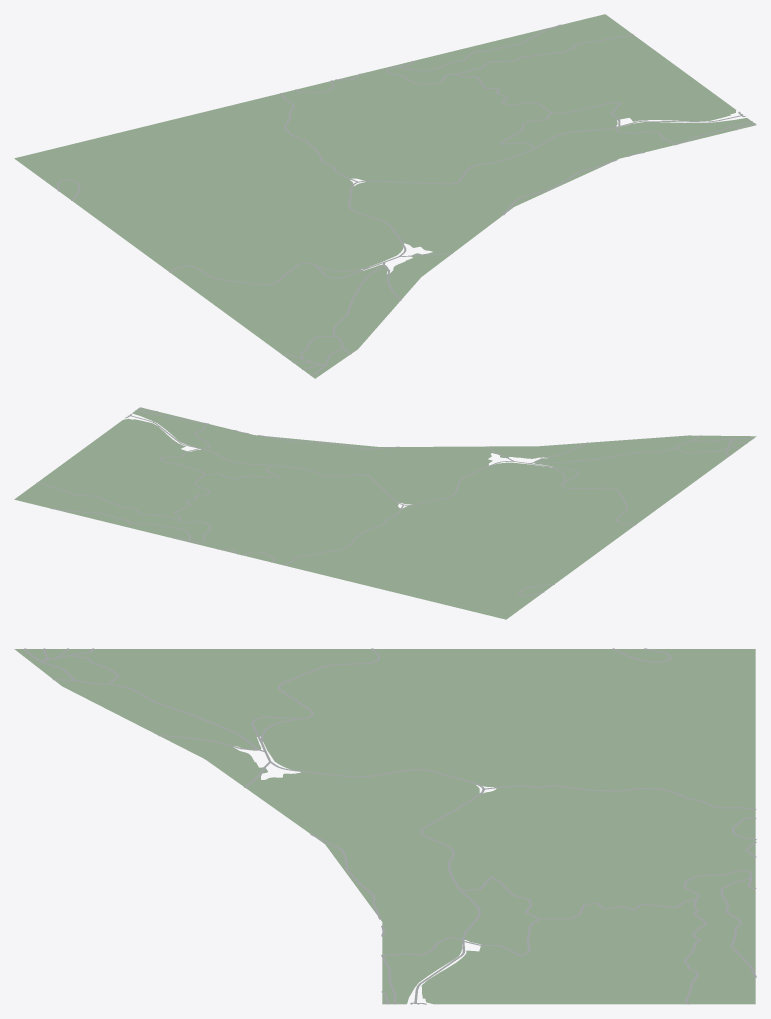
Rendered from 18_4-known-coarse.glb.
3 views of the same model, one above another, from view 1: azimuth 30°, elevation 25°; view 2: azimuth 150°, elevation 25°; view 3: azimuth 270°, elevation 25° (orthographic). The views are drawn at different scales.
Size of the model in its own units: 1003 by 0.1 by 884.
